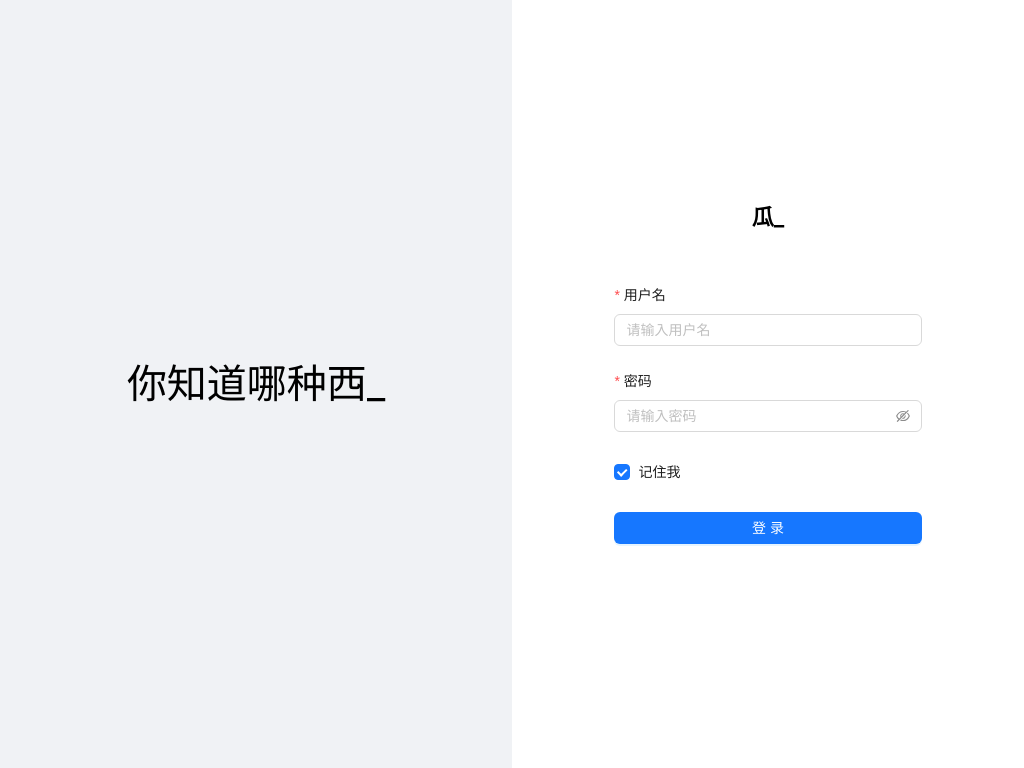
Test: Visit login page › should display validator error
Click the submit button at [768, 528], box [614,512,921,544]
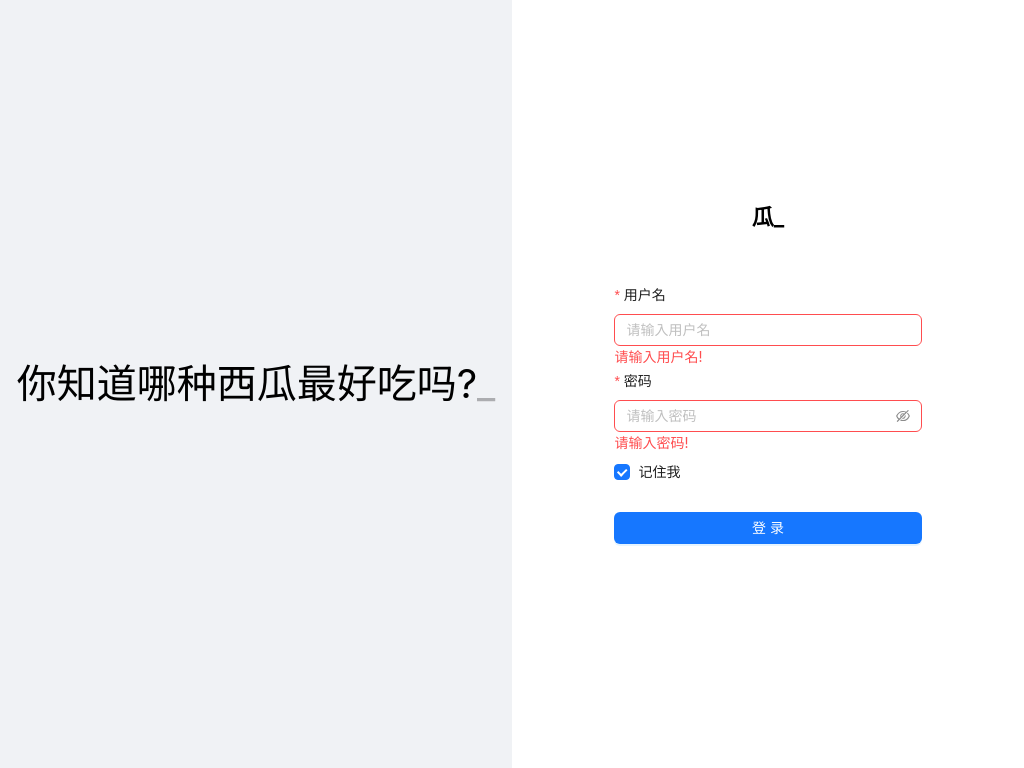
Now the text "请输入用户名!" is shown, box [614,348,702,364]
